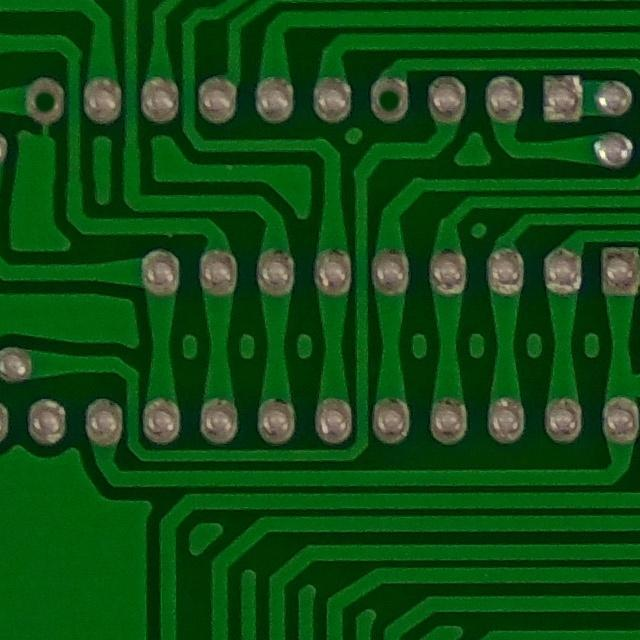missing_hole: (13, 69, 79, 132), (362, 69, 418, 125)
